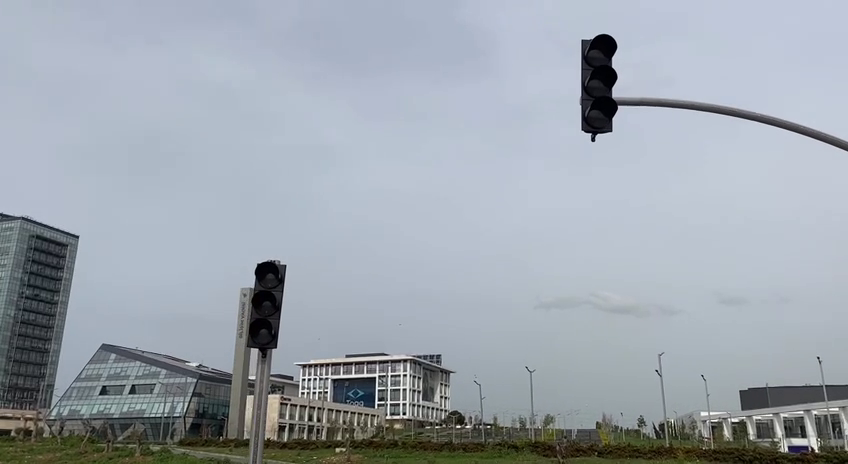trafficLight: (241, 256, 292, 356), (575, 31, 620, 144)
